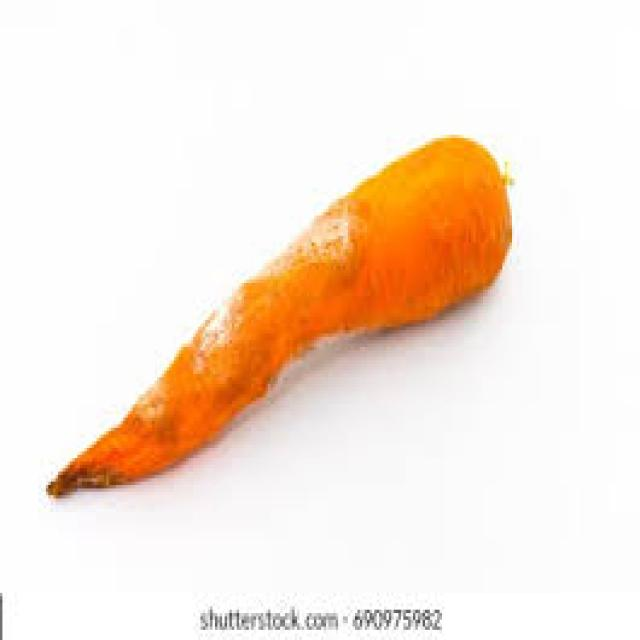Stale_Carrot: (68, 139, 509, 485)
